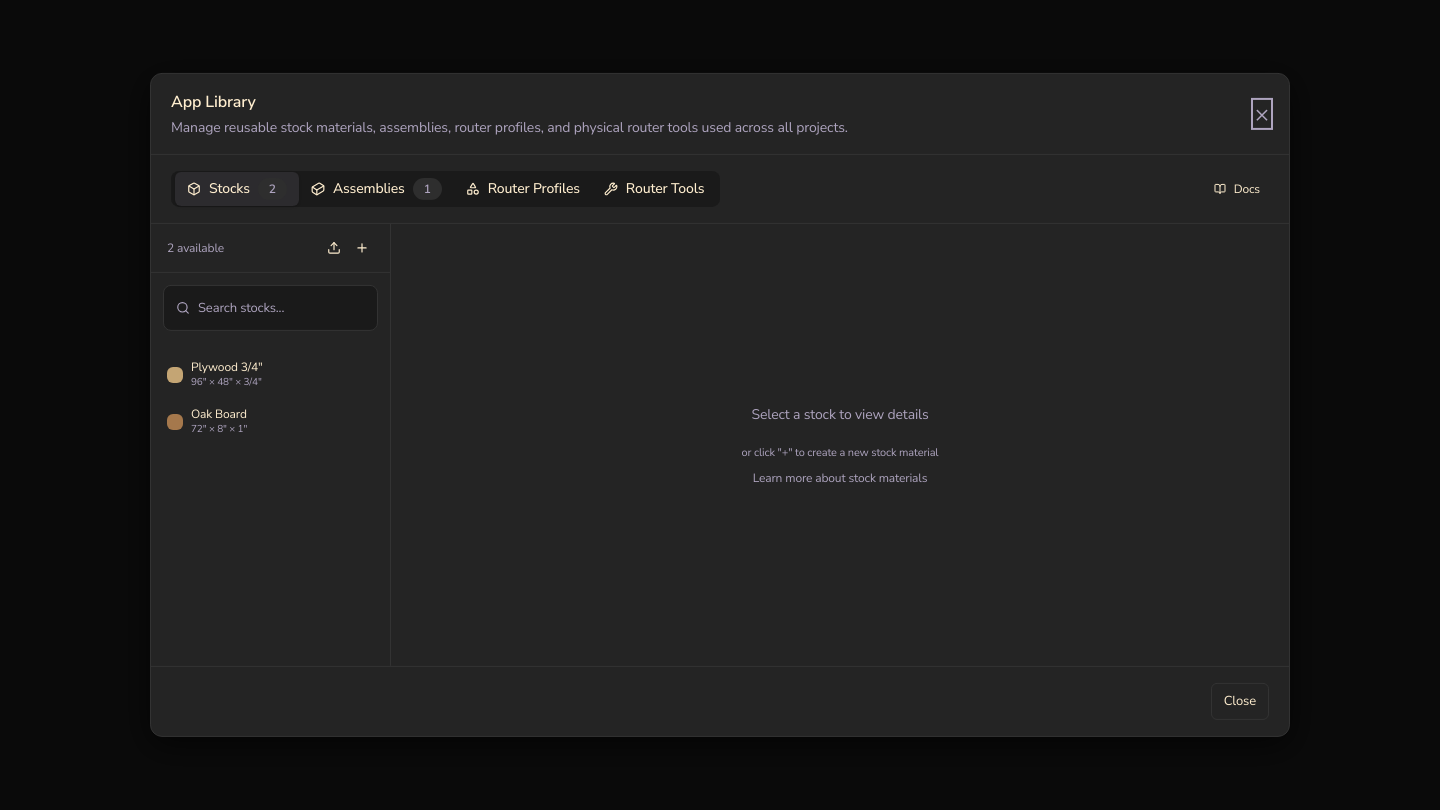
Scenario: StockLibraryModal › stock editing › enters edit mode when Edit clicked
The width and height of the screenshot is (1440, 810).
Click the text "Plywood 3/4\"": (227, 367) [191,359,263,375]
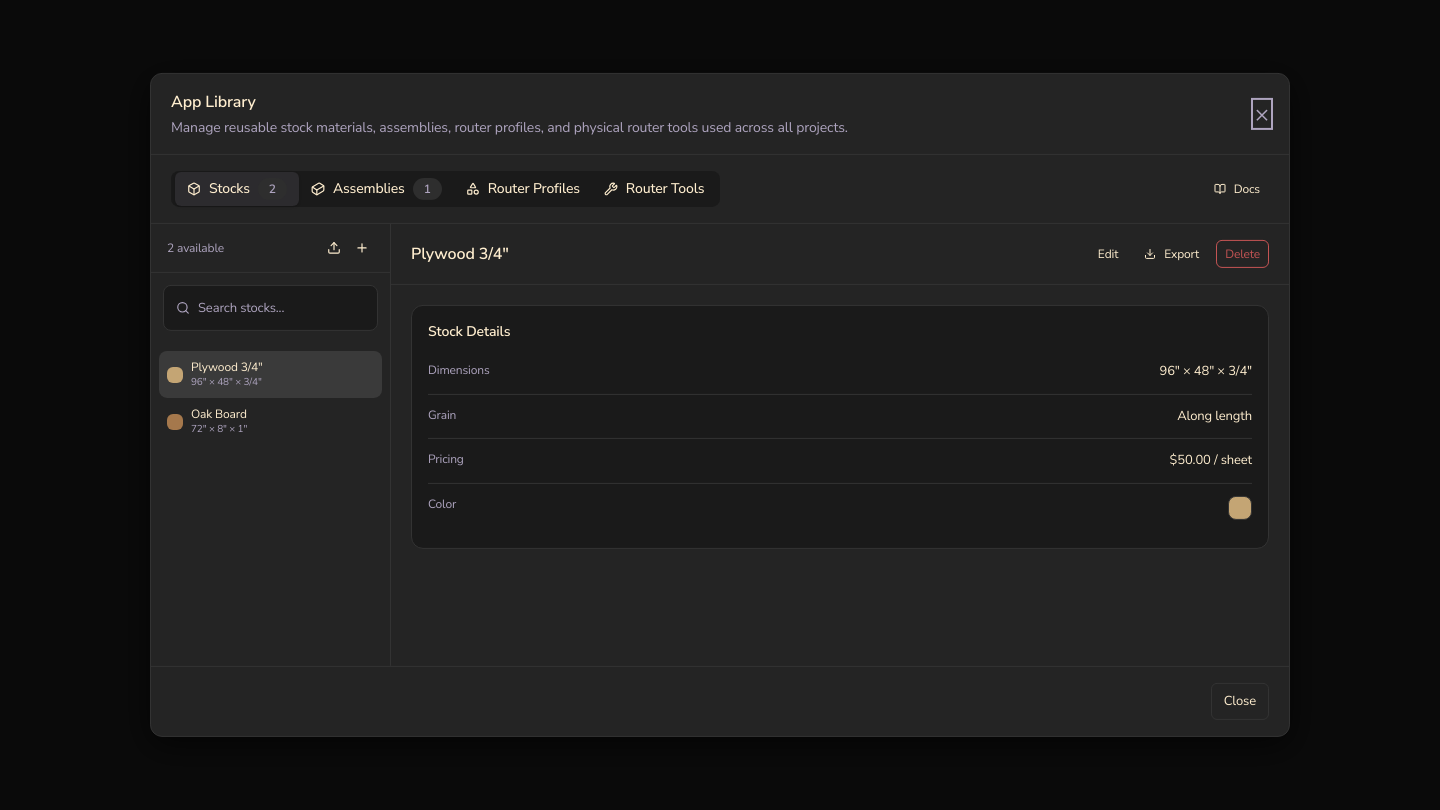
Click the button "Edit": (1108, 254) [1089,240,1127,268]
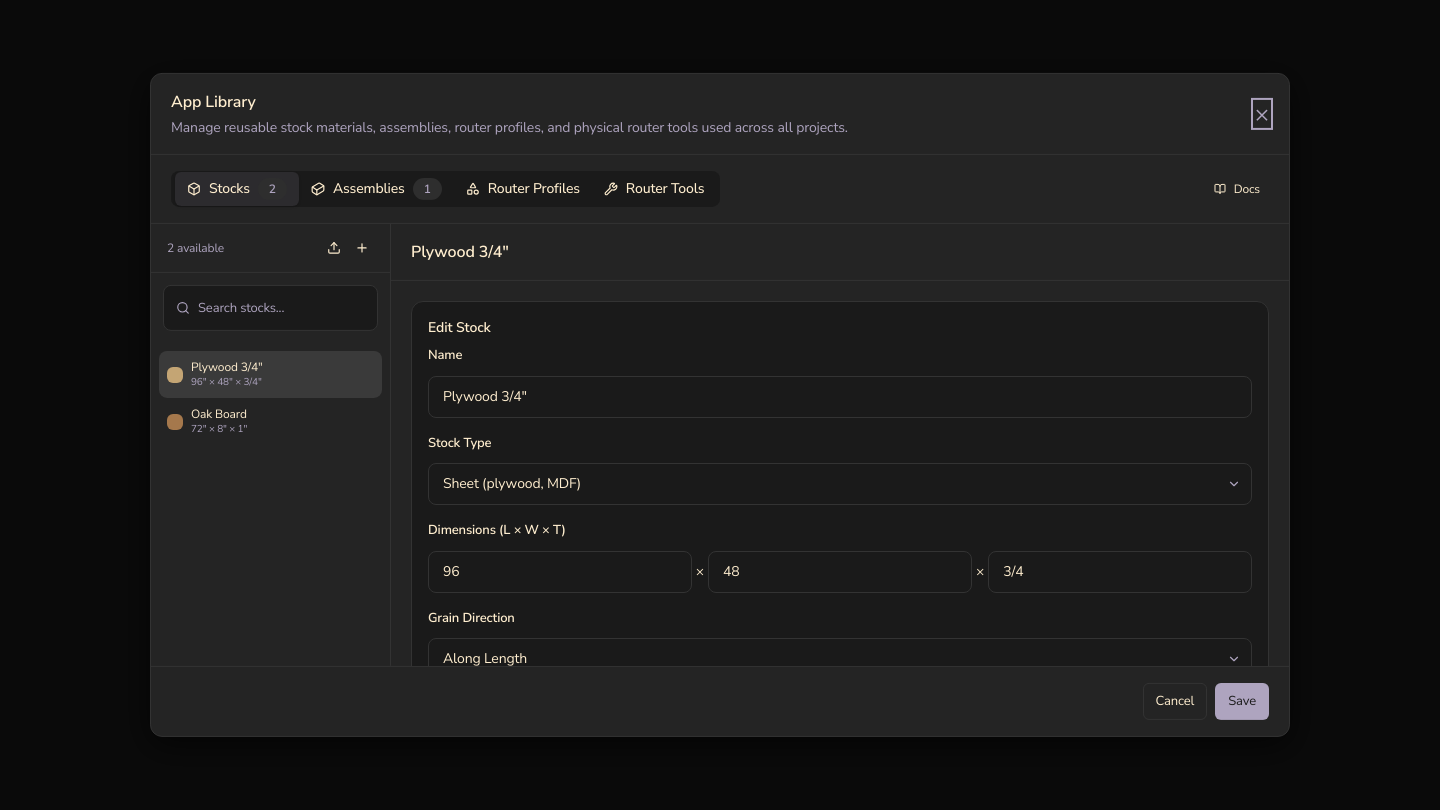
expect the field showing "Plywood 3/4\"" is shown: met, box [428,375,1252,417]
